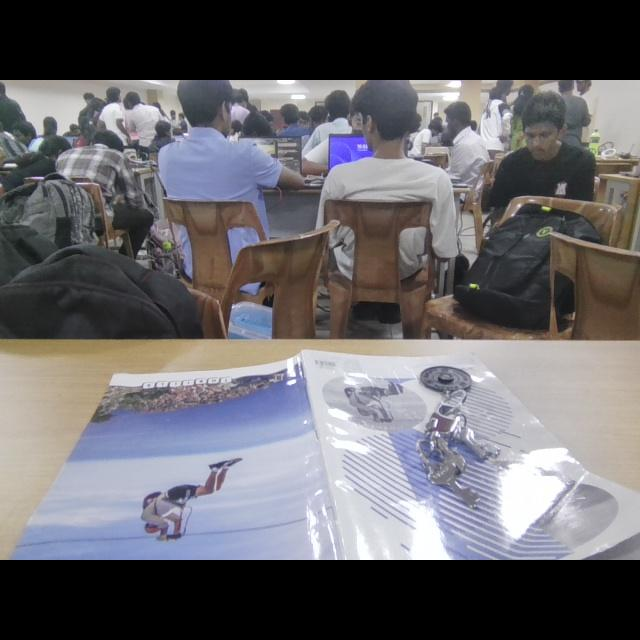keys: (404, 363, 516, 509)
